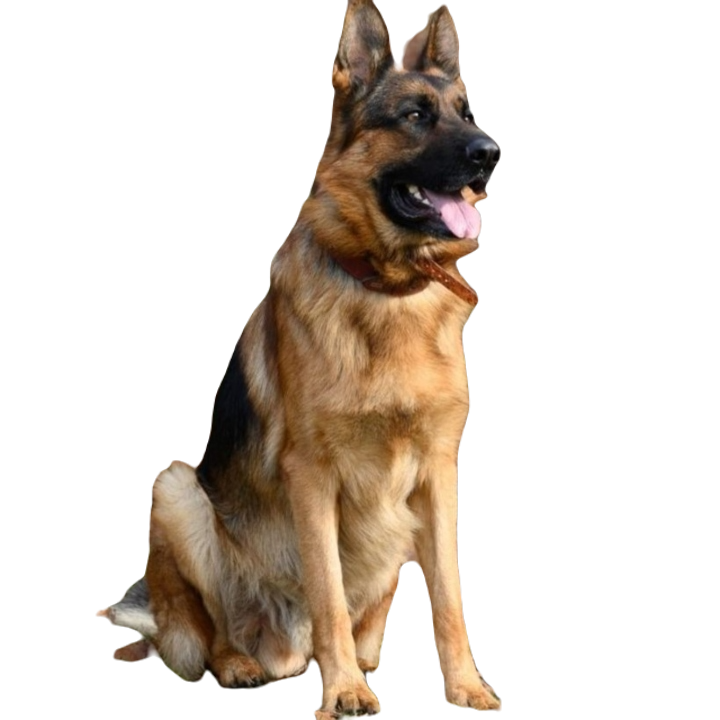Dog: (96, 0, 506, 717)
